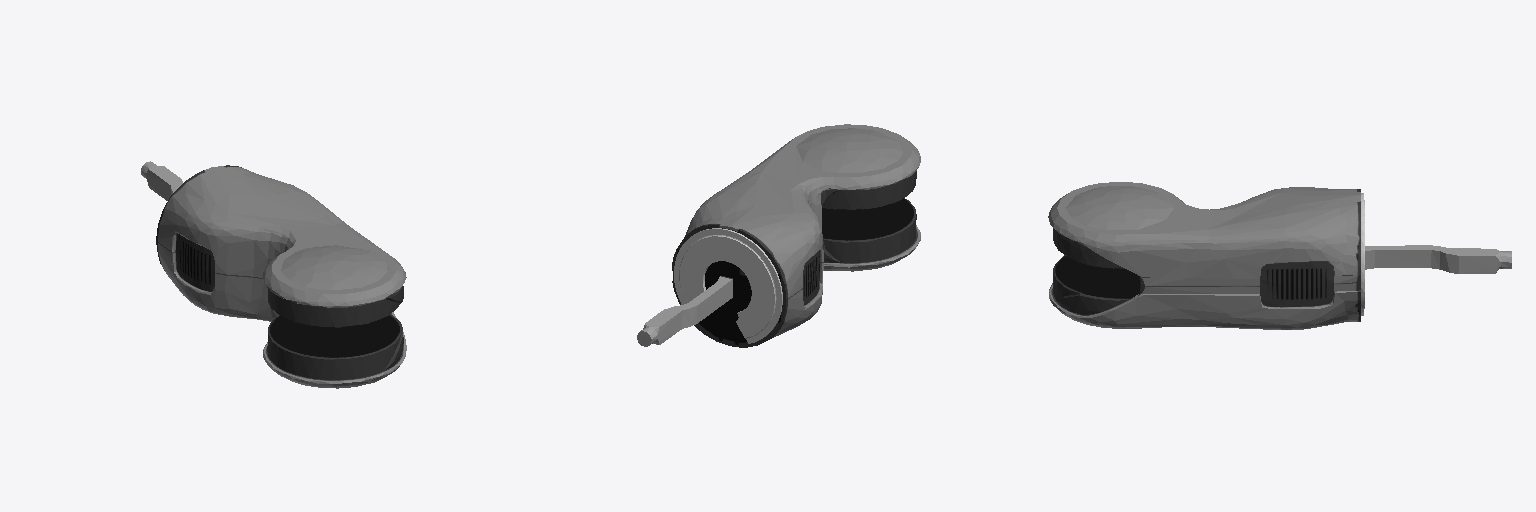
The picture shows the model from 3 angles: view 1: azimuth 30°, elevation 25°; view 2: azimuth 150°, elevation 25°; view 3: azimuth 270°, elevation 25°; orthographic projection.
Visible parts, largest first — view 1: /ambf/env/pr2/r_upper_arm_roll_link_/ambf/env/pr2/r_upper_arm_ro; view 2: /ambf/env/pr2/r_upper_arm_roll_link_/ambf/env/pr2/r_upper_arm_ro; view 3: /ambf/env/pr2/r_upper_arm_roll_link_/ambf/env/pr2/r_upper_arm_ro.
Part boxes in pixels (left/top/right/bottom): /ambf/env/pr2/r_upper_arm_roll_link_/ambf/env/pr2/r_upper_arm_ro: left=141, top=161, right=406, bottom=388; /ambf/env/pr2/r_upper_arm_roll_link_/ambf/env/pr2/r_upper_arm_ro: left=637, top=124, right=920, bottom=347; /ambf/env/pr2/r_upper_arm_roll_link_/ambf/env/pr2/r_upper_arm_ro: left=1048, top=182, right=1511, bottom=329.
Bounding box in the file's own units: 0.1694 × 0.1524 × 0.5351.
Materials: 2 (1 with a texture image).